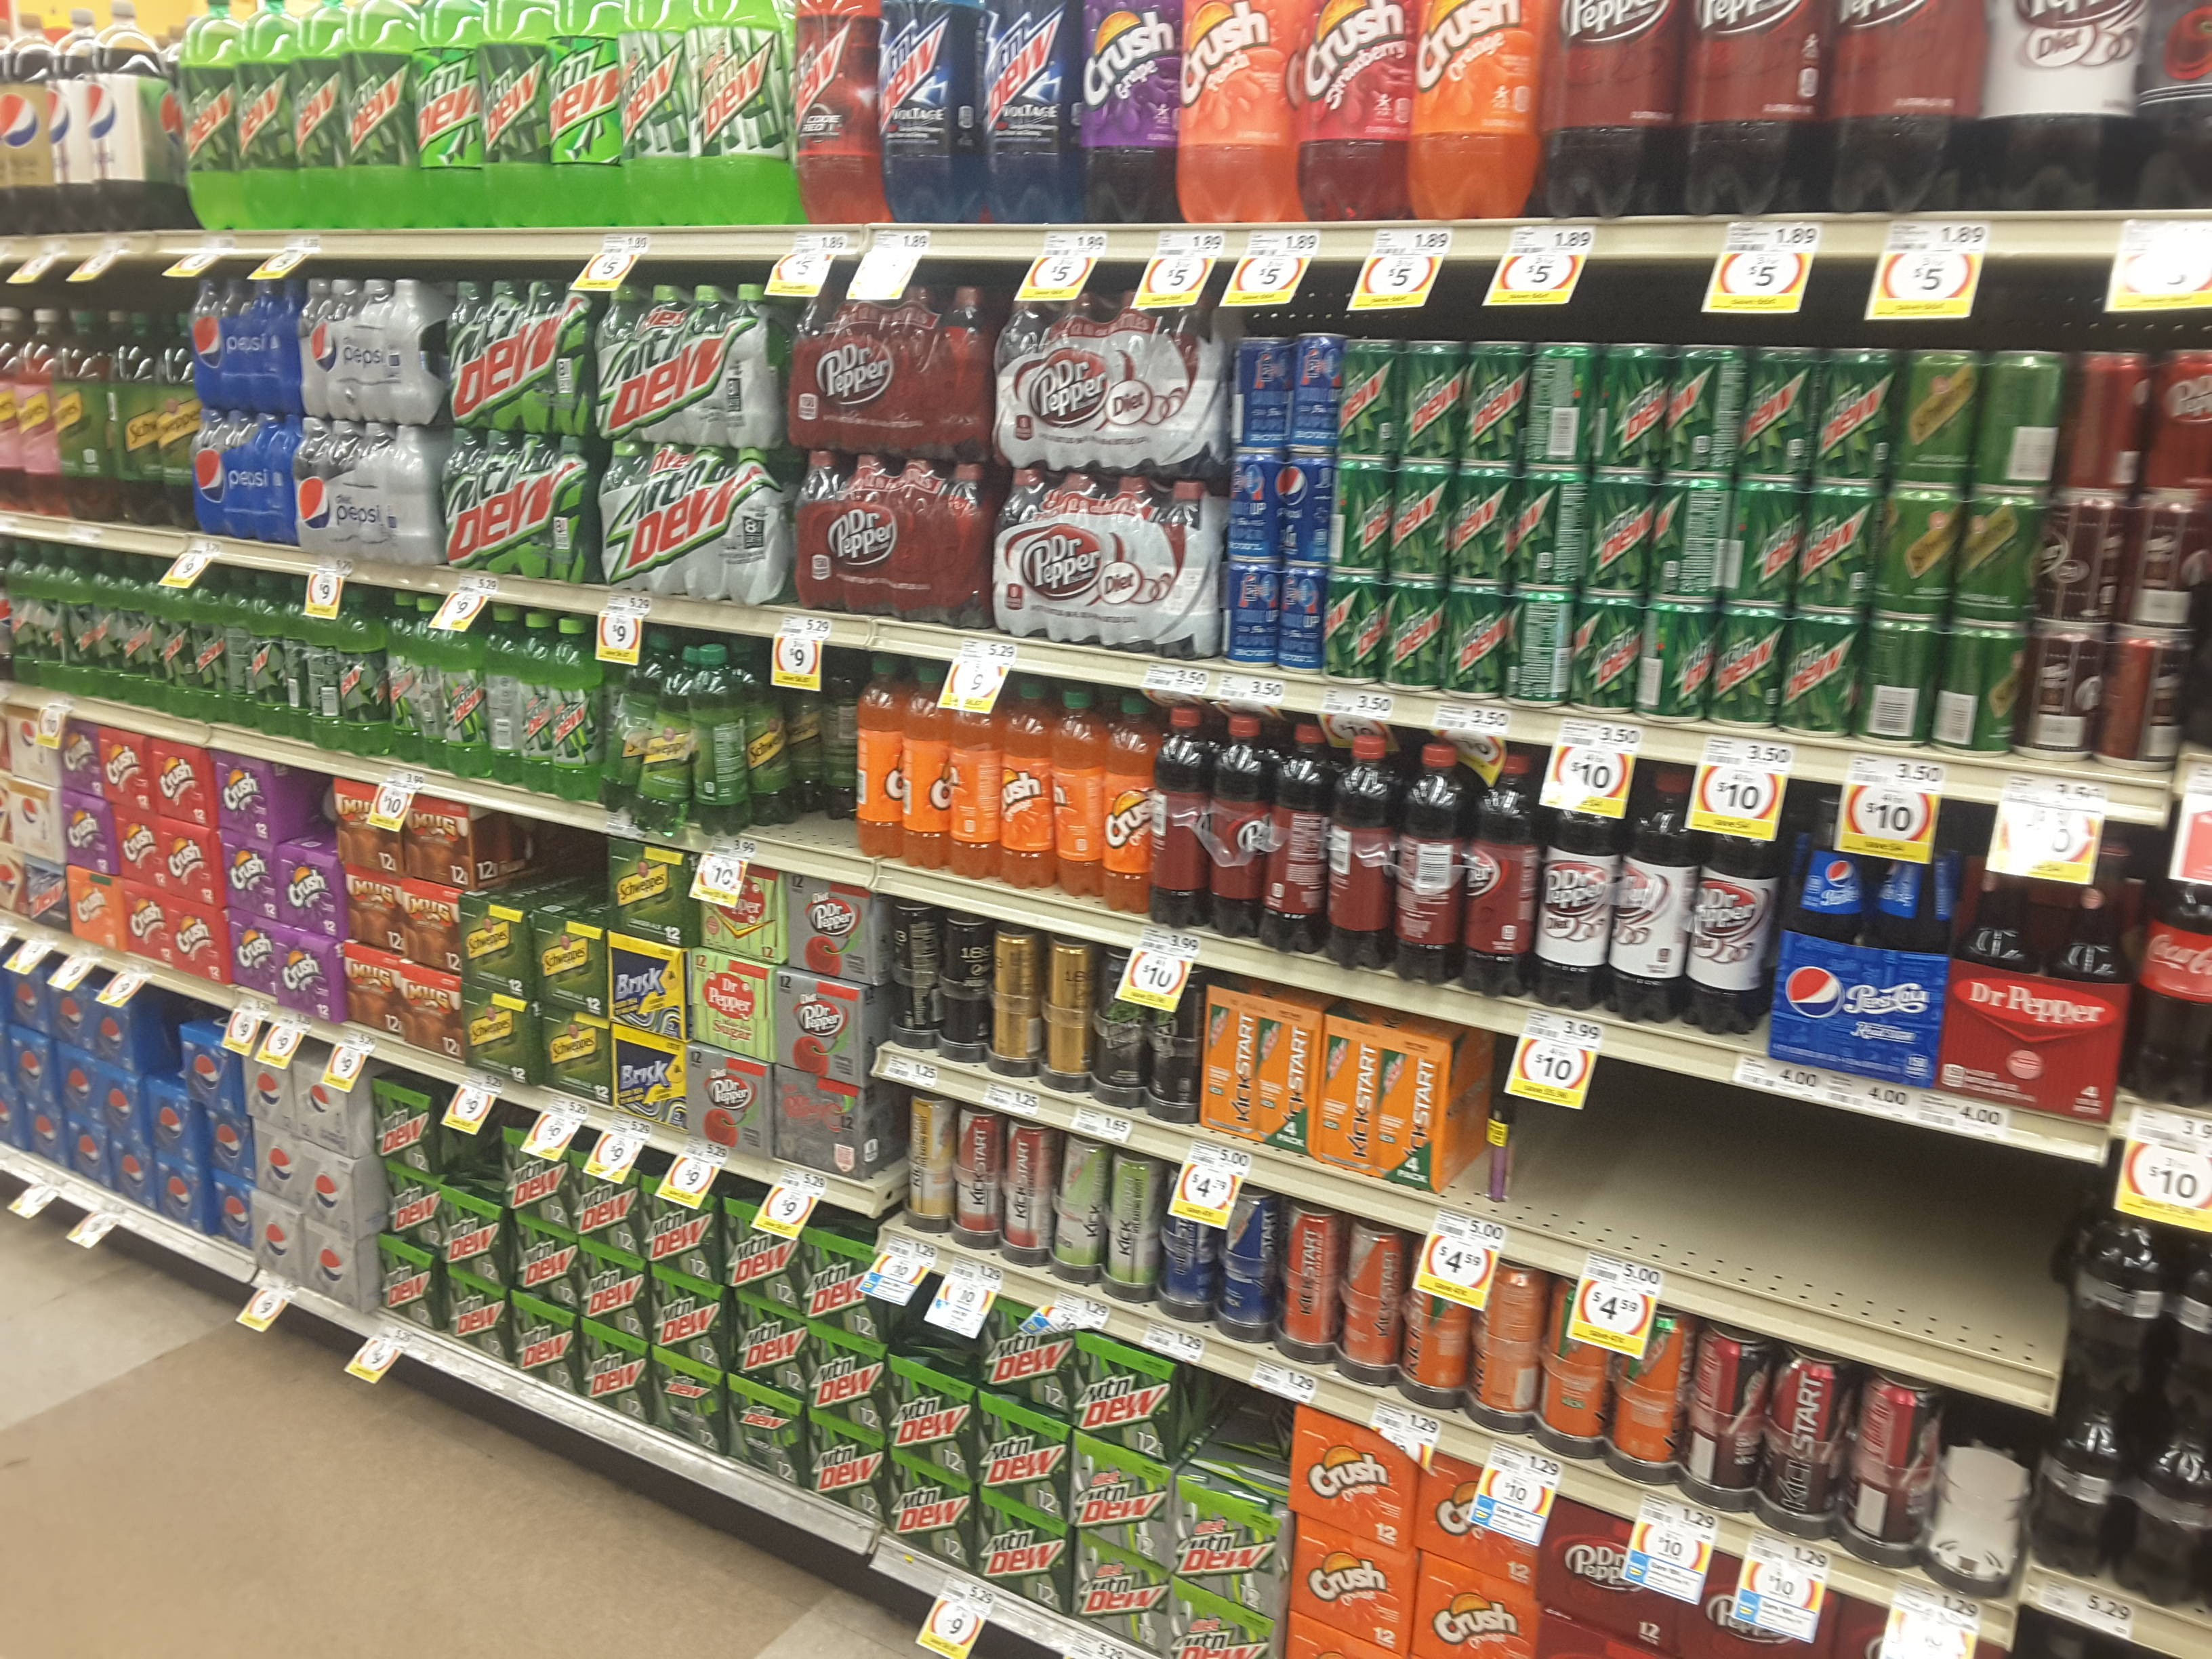Misplacement: (462, 803, 604, 1107), (740, 652, 862, 854), (270, 763, 345, 1019)
Out-of-stock: (1510, 1012, 2073, 1396)
